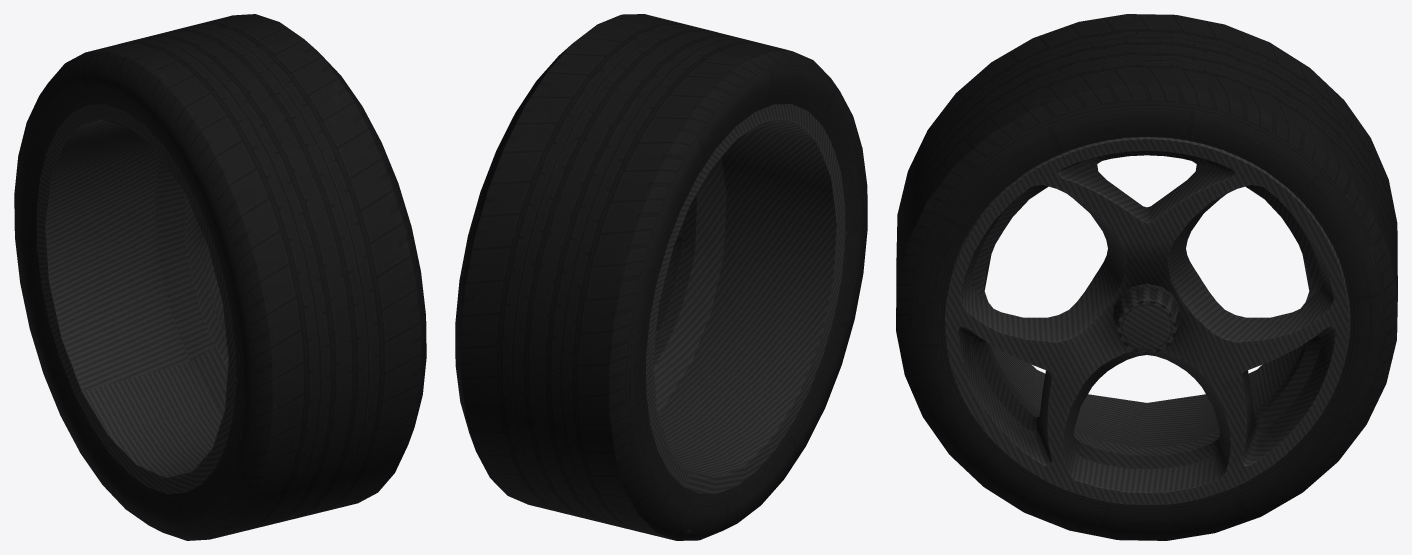
The model's file is RMCar17Wheel.FBX.
3 views of the same model, side by side, from view 1: azimuth 30°, elevation 25°; view 2: azimuth 150°, elevation 25°; view 3: azimuth 270°, elevation 25° (orthographic).
Visible parts, largest first — view 1: RMCar17_Wheel_LOD0; view 2: RMCar17_Wheel_LOD0; view 3: RMCar17_Wheel_LOD0.
Part boxes in pixels (left/top/right/bottom): RMCar17_Wheel_LOD0: left=14, top=14, right=426, bottom=540; RMCar17_Wheel_LOD0: left=455, top=14, right=867, bottom=540; RMCar17_Wheel_LOD0: left=896, top=14, right=1397, bottom=540.
Size of what is drawn, in the model's own units: 11.53 by 25.77 by 25.78.
